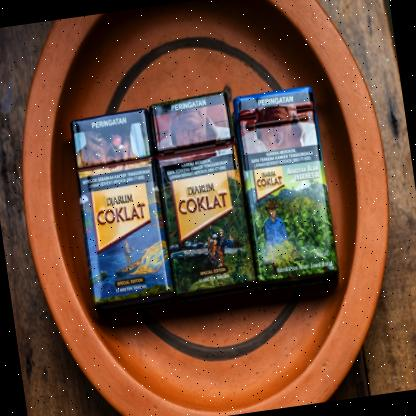bungkus rokok: (143, 85, 264, 316), (57, 103, 179, 327), (226, 80, 344, 306)
